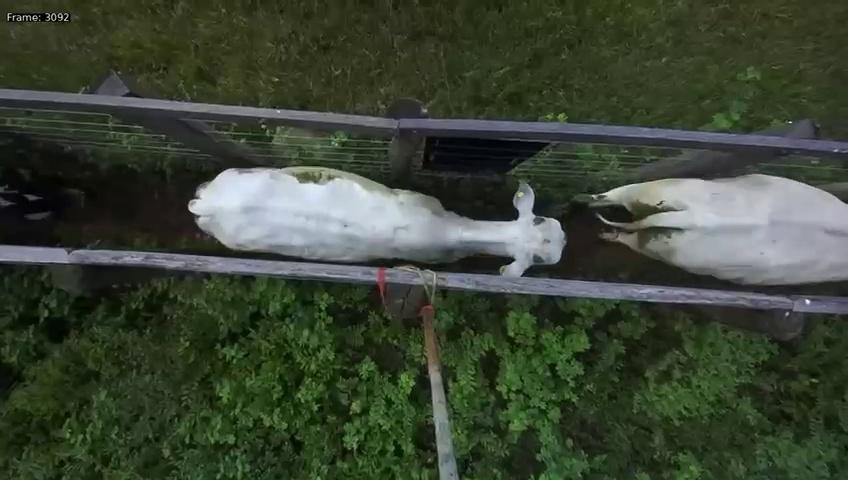cattle: (183, 150, 571, 286)
